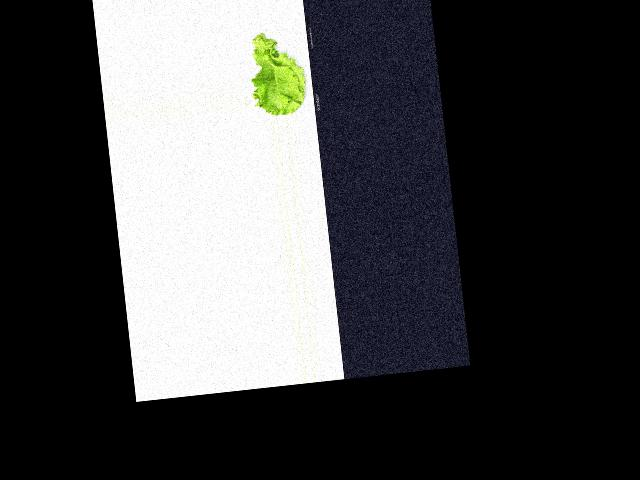lettuce: (245, 30, 313, 118)
